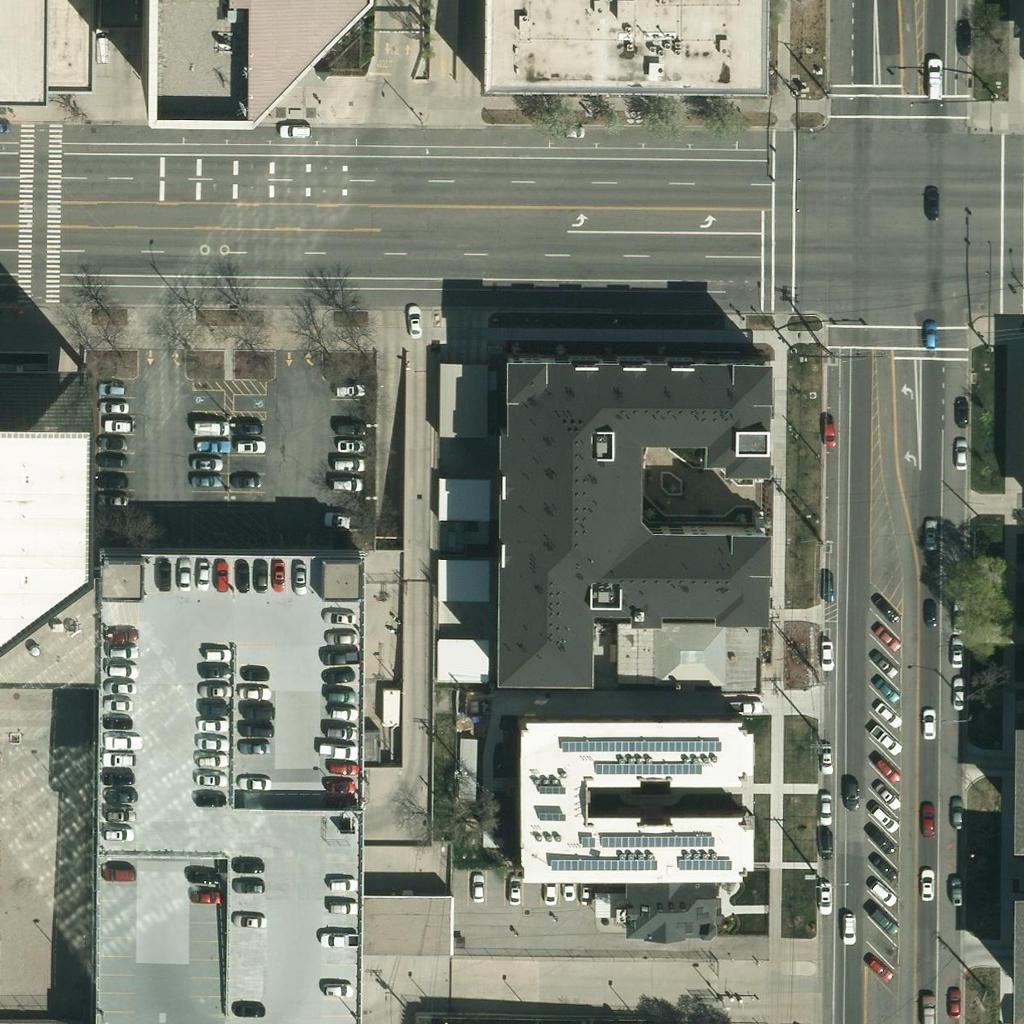car: (945, 20, 979, 54), (84, 25, 118, 59), (917, 57, 951, 91), (551, 114, 585, 148), (281, 115, 315, 149), (914, 184, 948, 218), (398, 305, 432, 339), (912, 319, 946, 353), (93, 371, 127, 405), (333, 372, 367, 406), (94, 389, 128, 423), (943, 393, 977, 427), (101, 408, 135, 442), (224, 410, 258, 444), (196, 411, 230, 445), (332, 411, 366, 445), (811, 413, 845, 447), (93, 424, 127, 458), (336, 428, 370, 462), (196, 429, 230, 463), (232, 430, 266, 464), (944, 437, 978, 471), (93, 443, 127, 477), (190, 447, 224, 481), (331, 447, 365, 481), (94, 463, 128, 497), (188, 463, 222, 497), (231, 464, 265, 498), (329, 467, 363, 501), (97, 482, 131, 516), (322, 503, 356, 537), (912, 517, 946, 551), (186, 557, 220, 591), (261, 557, 295, 591), (147, 558, 181, 592), (226, 558, 260, 592), (166, 560, 200, 594), (281, 560, 315, 594), (203, 561, 237, 595), (244, 561, 278, 595), (809, 570, 843, 604), (810, 570, 844, 604), (867, 588, 901, 622), (912, 592, 946, 626), (321, 601, 355, 635), (940, 603, 974, 637), (102, 619, 136, 653), (322, 620, 356, 654), (868, 620, 902, 654), (106, 635, 140, 669), (809, 635, 843, 669), (940, 635, 974, 669), (196, 638, 230, 672), (320, 639, 354, 673), (865, 647, 899, 681), (104, 652, 138, 686), (197, 653, 231, 687), (237, 656, 271, 690), (320, 658, 354, 692), (106, 670, 140, 704), (868, 671, 902, 705), (198, 673, 232, 707), (236, 676, 270, 710), (940, 676, 974, 710), (321, 679, 355, 713), (101, 688, 135, 722), (729, 690, 763, 724), (197, 691, 231, 725), (240, 693, 274, 727), (326, 696, 360, 730), (869, 696, 903, 730), (100, 704, 134, 738), (193, 708, 227, 742), (911, 708, 945, 742), (238, 713, 272, 747), (324, 715, 358, 749), (870, 723, 904, 757), (103, 725, 137, 759), (195, 726, 229, 760), (237, 730, 271, 764), (325, 734, 359, 768), (808, 740, 842, 774), (102, 743, 136, 777), (194, 744, 228, 778), (326, 751, 360, 785), (867, 751, 901, 785), (102, 759, 136, 793), (192, 762, 226, 796), (237, 767, 271, 801), (323, 769, 357, 803), (834, 775, 868, 809), (868, 777, 902, 811), (103, 778, 137, 812), (192, 784, 226, 818), (808, 792, 842, 826), (938, 797, 972, 831), (102, 798, 136, 832), (867, 799, 901, 833), (910, 805, 944, 839), (99, 818, 133, 852), (863, 823, 897, 857), (807, 824, 841, 858), (230, 848, 264, 882), (868, 851, 902, 885), (102, 857, 136, 891), (103, 857, 137, 891), (187, 859, 221, 893), (909, 867, 943, 901), (323, 868, 357, 902), (235, 870, 269, 904), (551, 871, 585, 905), (568, 872, 602, 906), (939, 872, 973, 906), (459, 874, 493, 908), (532, 876, 566, 910), (864, 877, 898, 911), (807, 878, 841, 912), (187, 879, 221, 913), (323, 891, 357, 925), (863, 900, 897, 934), (235, 903, 269, 937), (831, 913, 865, 947), (317, 924, 351, 958), (859, 950, 893, 984), (318, 973, 352, 1007), (937, 988, 971, 1022), (231, 993, 265, 1024), (910, 993, 944, 1024)
